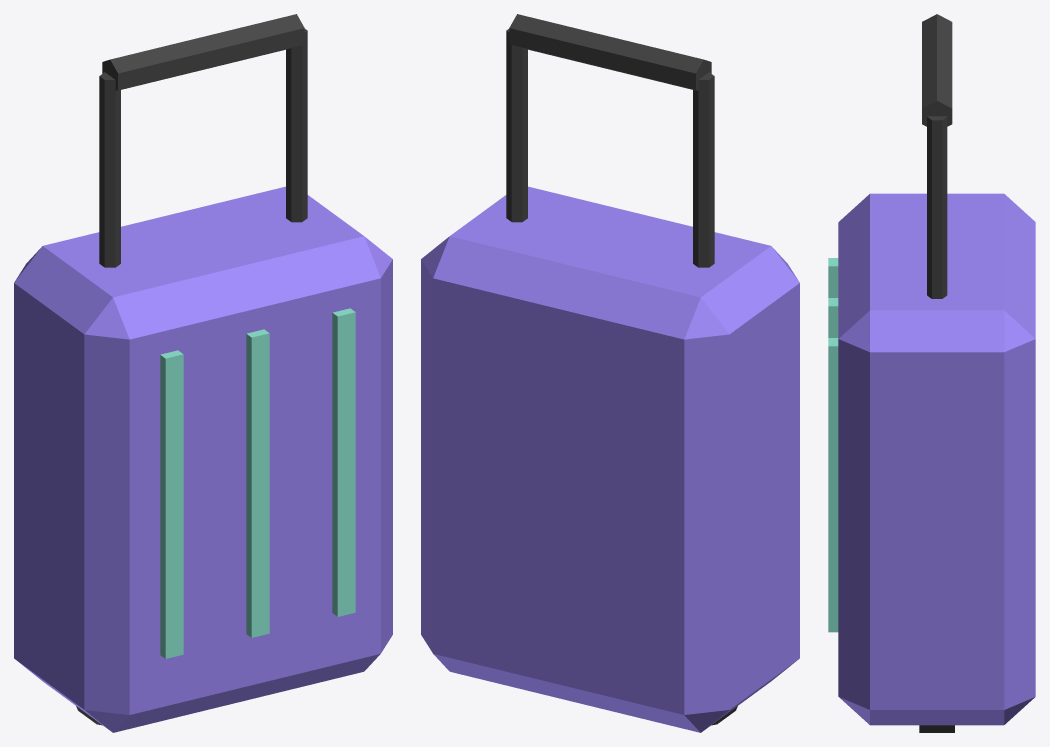
3 views of the same model, side by side, from view 1: azimuth 30°, elevation 25°; view 2: azimuth 150°, elevation 25°; view 3: azimuth 270°, elevation 25° (orthographic). The views are drawn at different scales.
Visible parts, largest first — view 1: Shell, Raised rib, Raised rib.001, Raised rib.002, Grip, Handle rail, Handle rail.001; view 2: Shell, Grip, Handle rail, Handle rail.001; view 3: Shell, Handle rail.001, Raised rib.002, Grip, Raised rib, Raised rib.001.
Boxes of the visible parts, <box> form: Shell: <box>14,186,392,732</box>; Raised rib: <box>160,350,183,658</box>; Raised rib.001: <box>246,329,269,637</box>; Raised rib.002: <box>332,308,355,616</box>; Grip: <box>102,14,304,90</box>; Handle rail: <box>99,72,120,267</box>; Handle rail.001: <box>286,29,307,222</box>; Shell: <box>421,186,799,732</box>; Grip: <box>509,14,711,90</box>; Handle rail: <box>693,72,714,267</box>; Handle rail.001: <box>506,29,527,222</box>; Shell: <box>838,193,1035,725</box>; Handle rail.001: <box>927,116,947,298</box>; Raised rib.002: <box>828,338,838,632</box>; Grip: <box>922,14,952,126</box>; Raised rib: <box>828,258,838,297</box>; Raised rib.001: <box>828,298,838,337</box>.
Size of the model in its own units: 43 by 88.2 by 26.3.
